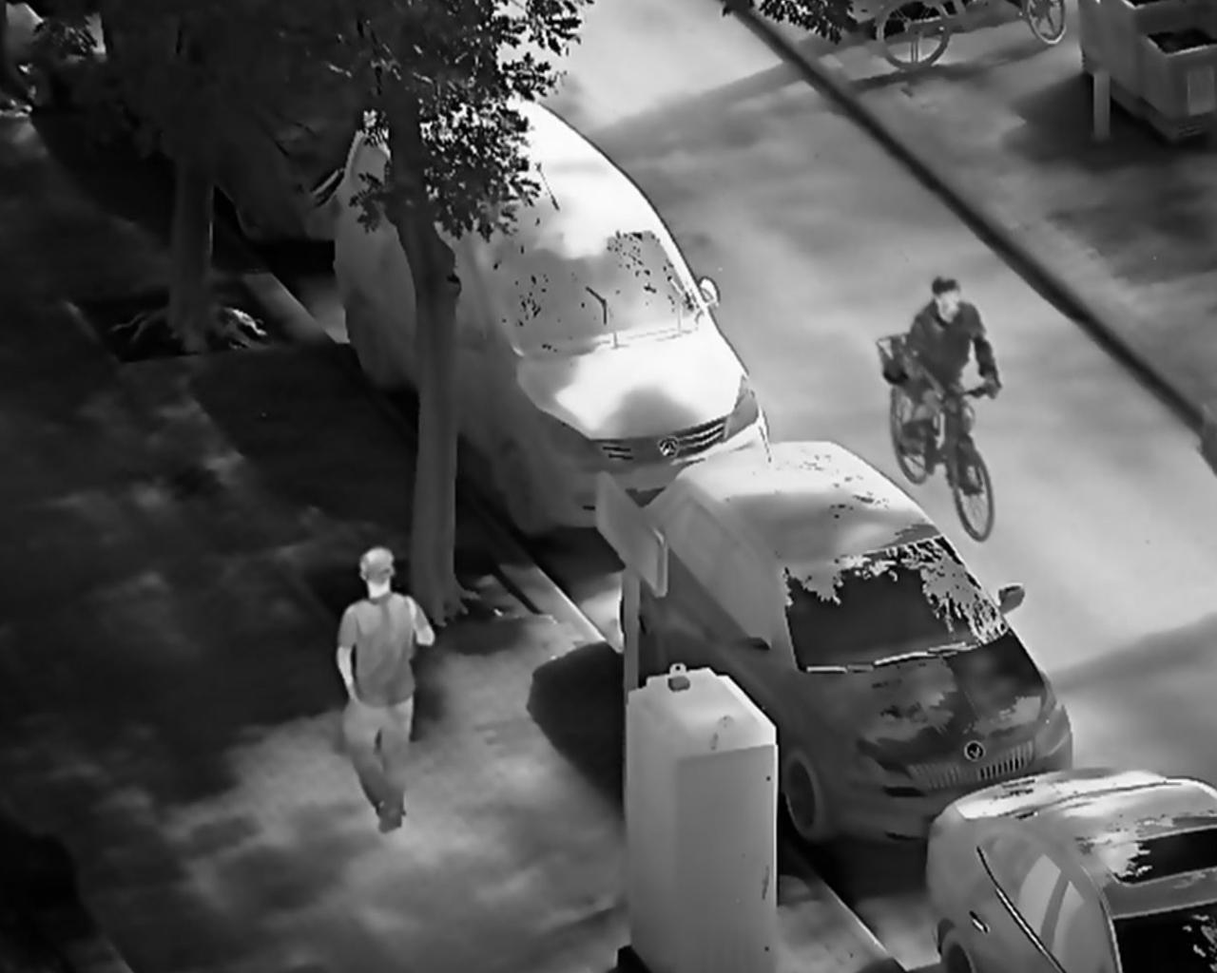person: (329, 544, 439, 836), (893, 275, 1004, 477)
